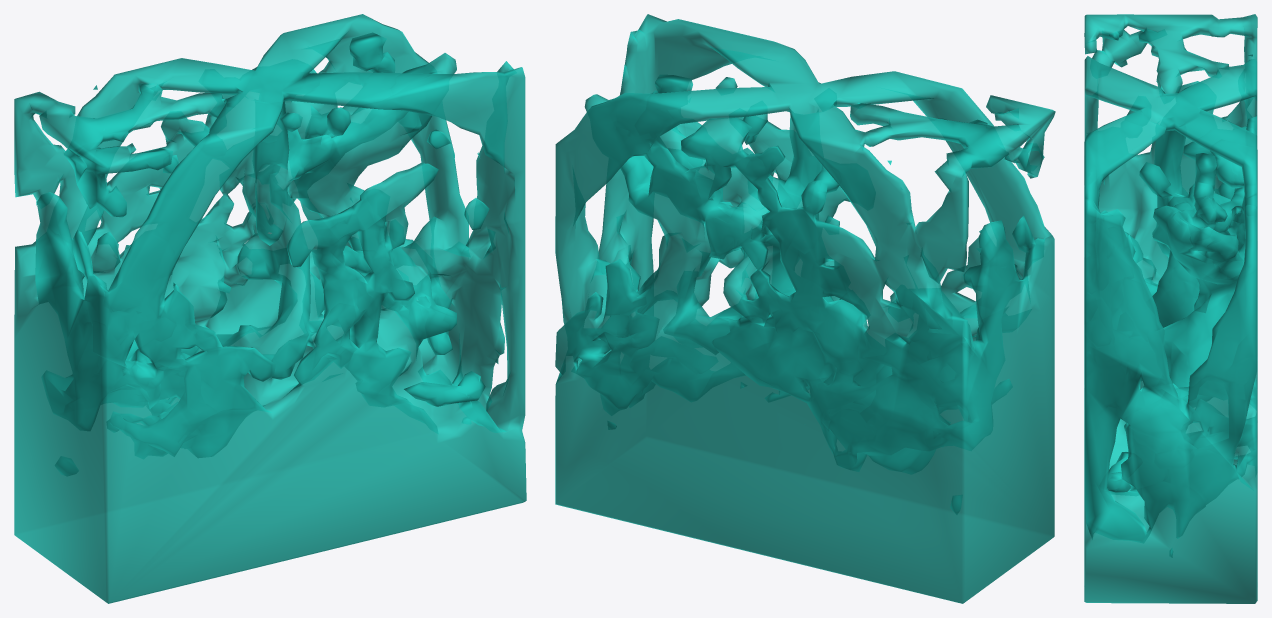
3 views of the same model, side by side, from view 1: azimuth 30°, elevation 25°; view 2: azimuth 150°, elevation 25°; view 3: azimuth 270°, elevation 25° (orthographic). The views are drawn at different scales.
Parts seen in each view (by area): view 1: Liquid_Domain; view 2: Liquid_Domain; view 3: Liquid_Domain.
Part boxes in pixels (x1=…): Liquid_Domain: x1=14, y1=14, x2=526, y2=603; Liquid_Domain: x1=555, y1=14, x2=1055, y2=603; Liquid_Domain: x1=1084, y1=14, x2=1257, y2=603.
Size of the model in its own units: 884 by 885 by 345.
